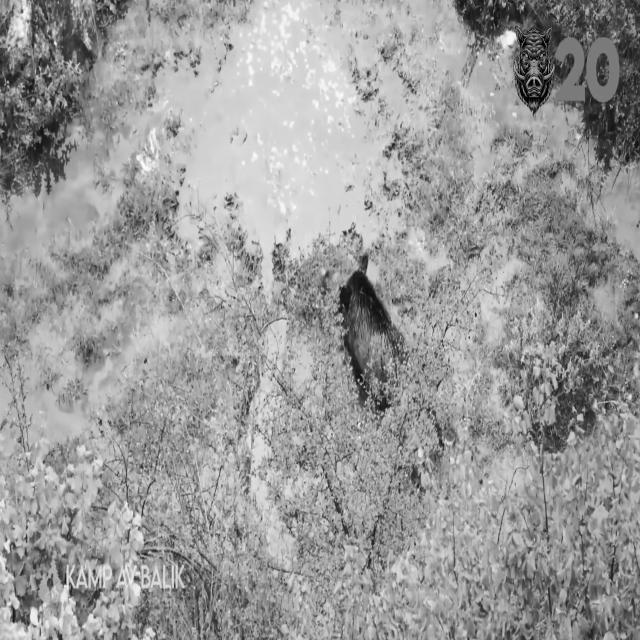boar: (339, 254, 402, 380)
